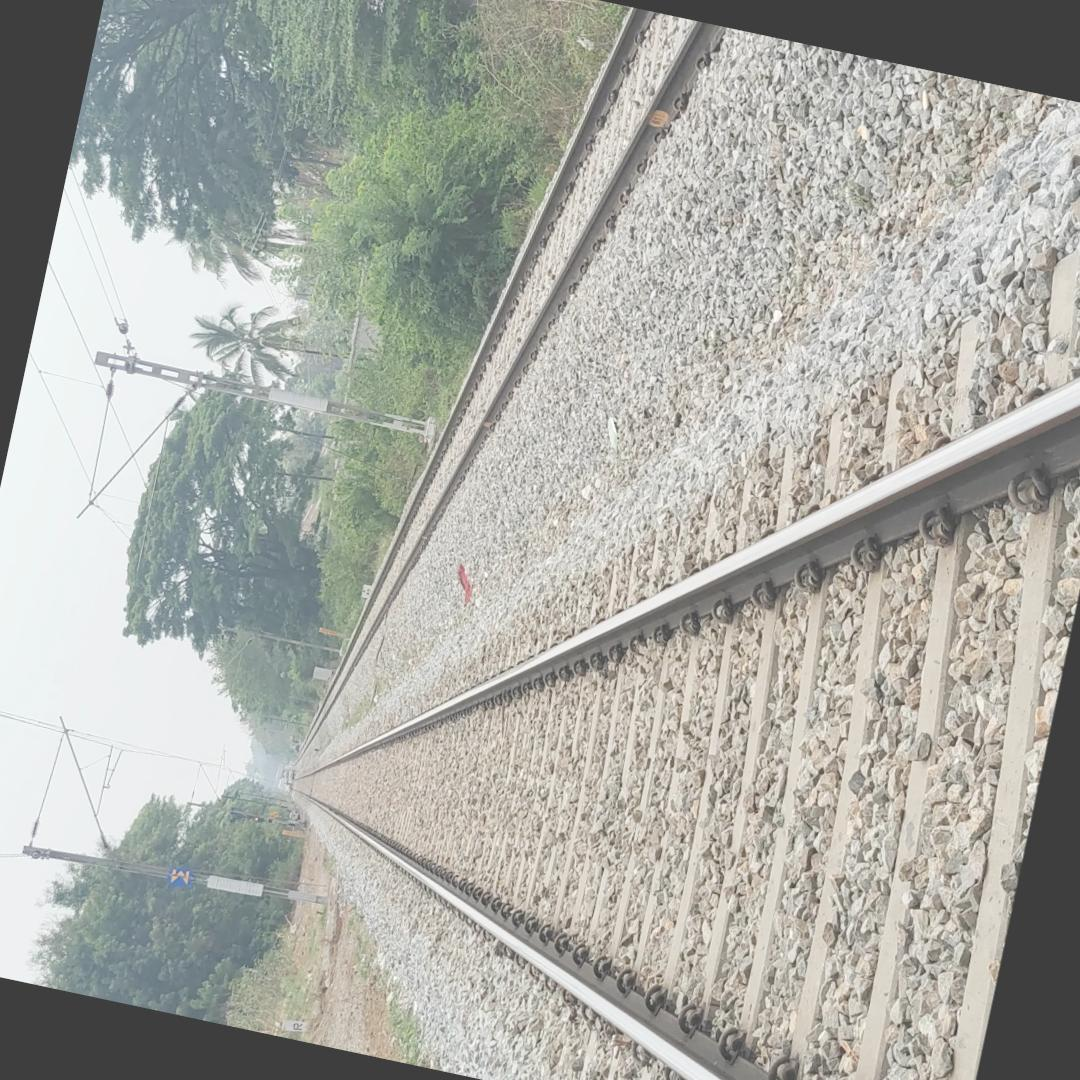track: (279, 276, 1080, 1080)
